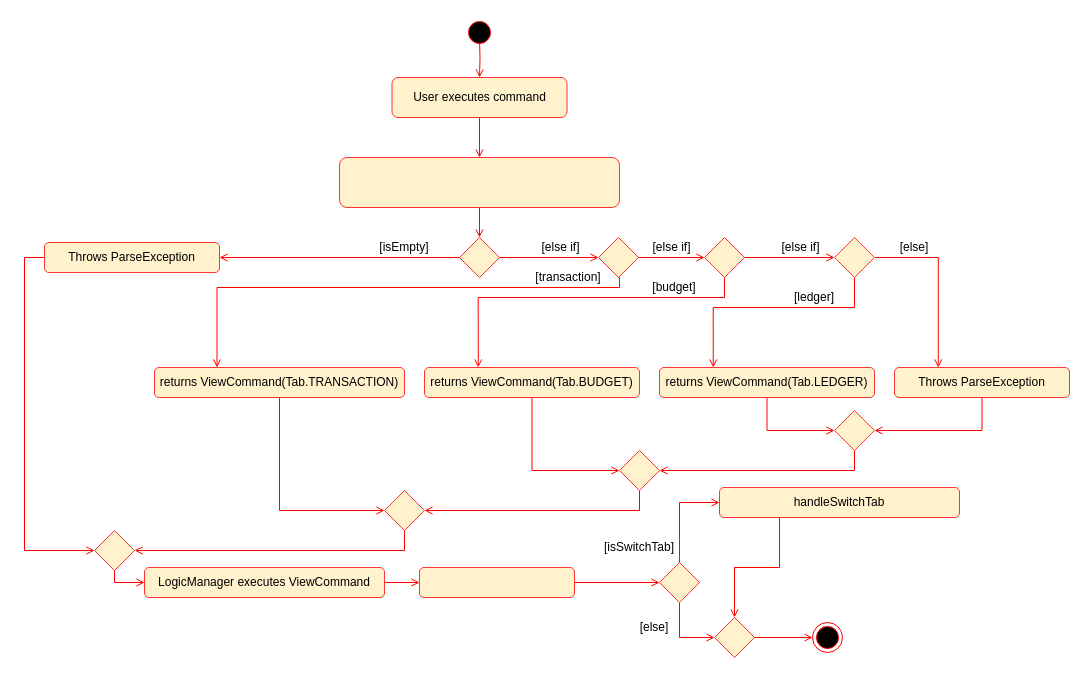
Image size: 1087x675. Some labels were removed from this diagram. The shapes that lost their labels are listed below. From the top down, each one's centre as x and y in pixels, then its label:
At [479,182]: "ViewCommandParser parses the argument".
At [496,582]: "returns CommandResult".
